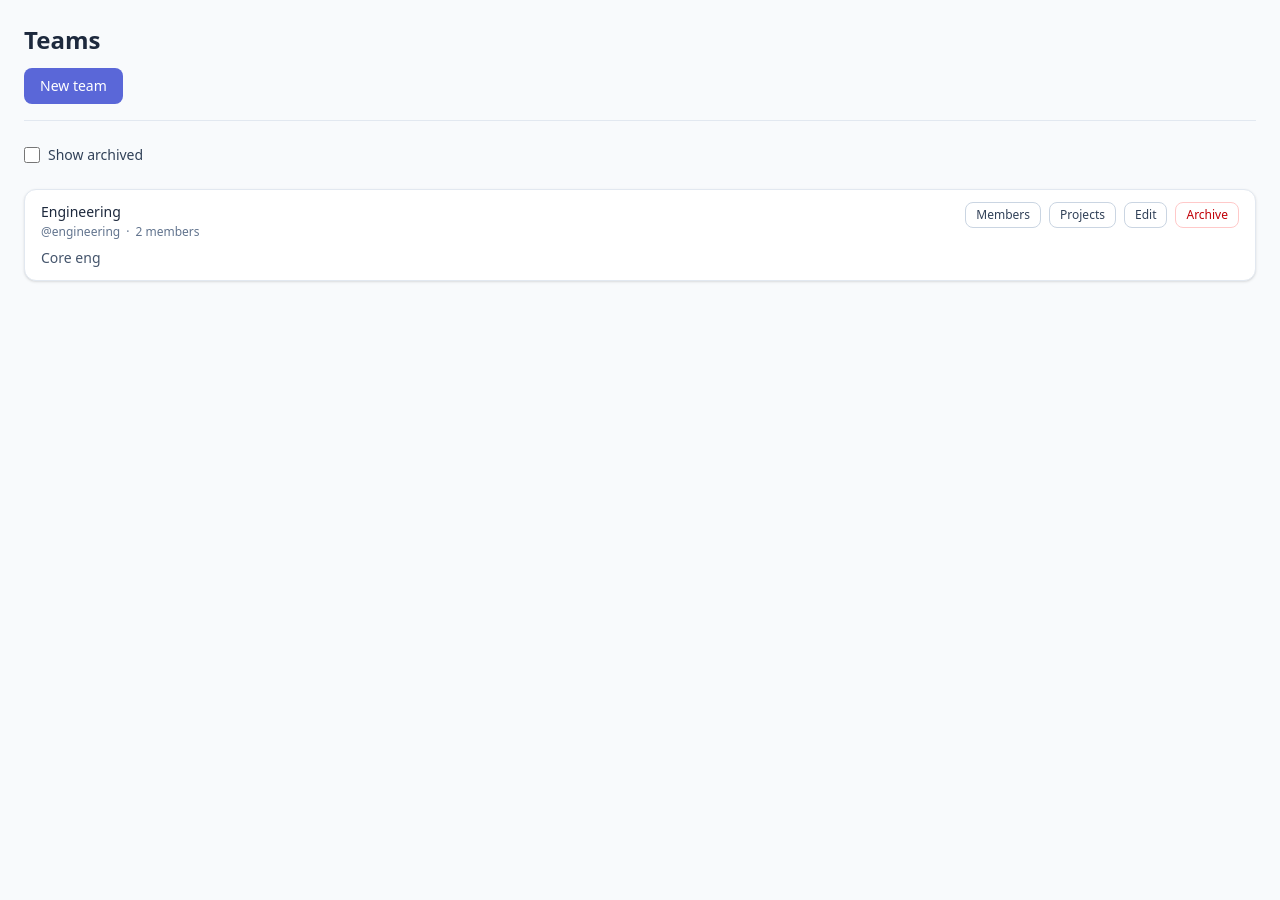
Test: TeamsPanel - create flow › shows warnings returned by the save
This screenshot has width=1280, height=900.
Expected: the text "Engineering" is shown, [41,202,121,222]
Step 1. Click the button "New team" → (73, 86), box [24,68,123,104]
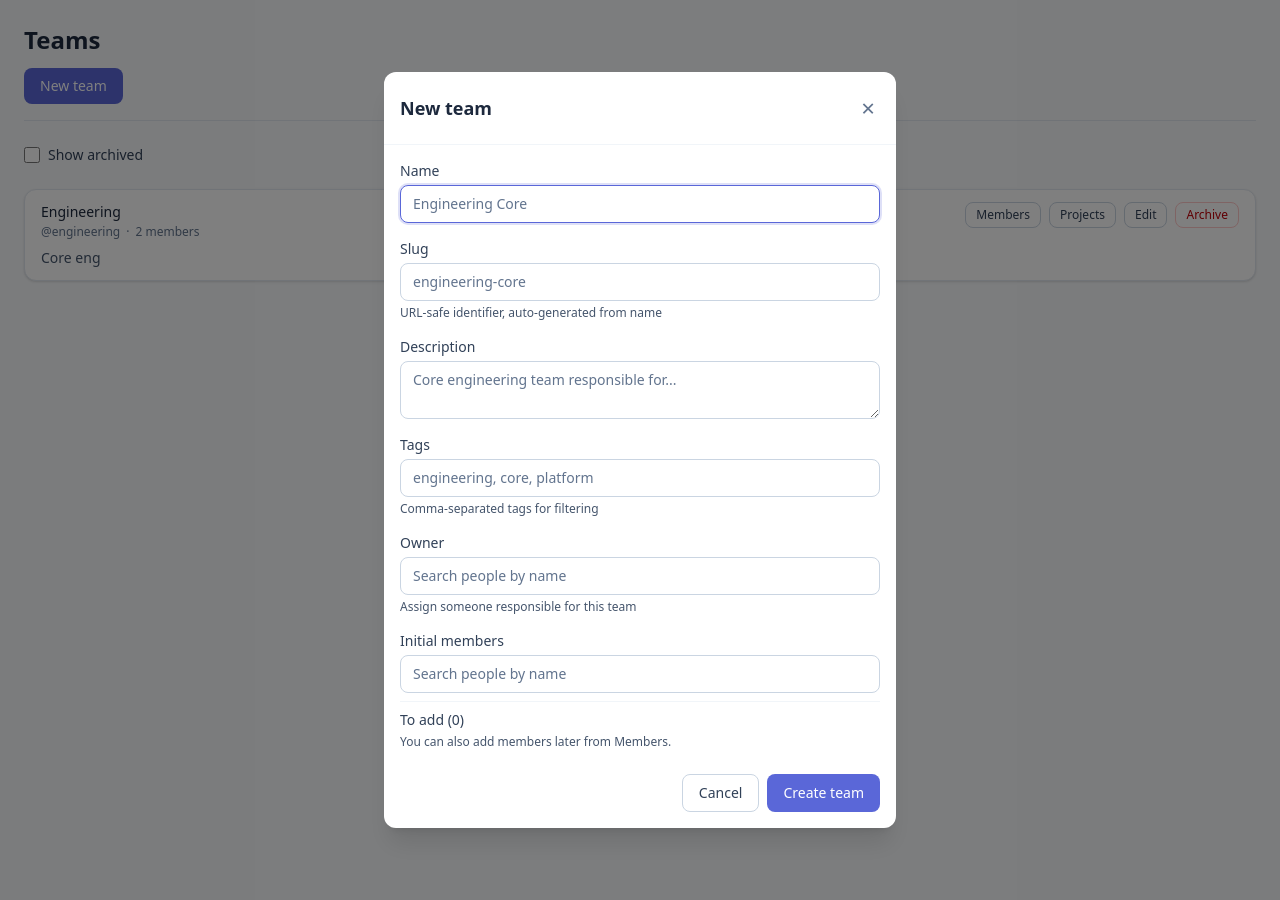
Step 2. Type "Team X" into the field with placeholder "Engineering Core" → (640, 204), box [400,185,880,223]
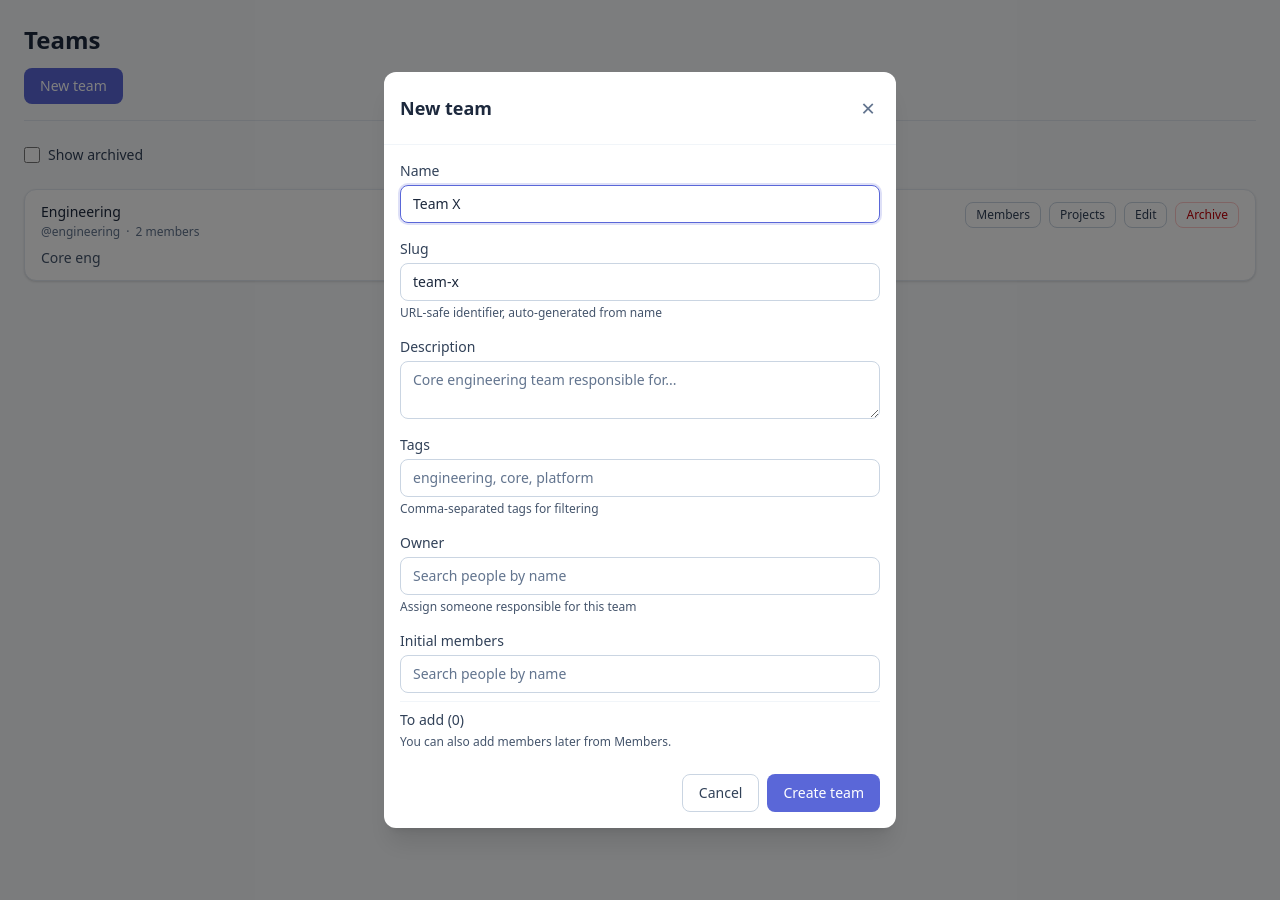
Step 3. Click the button "Create team" → (824, 793), box [767,774,880,812]
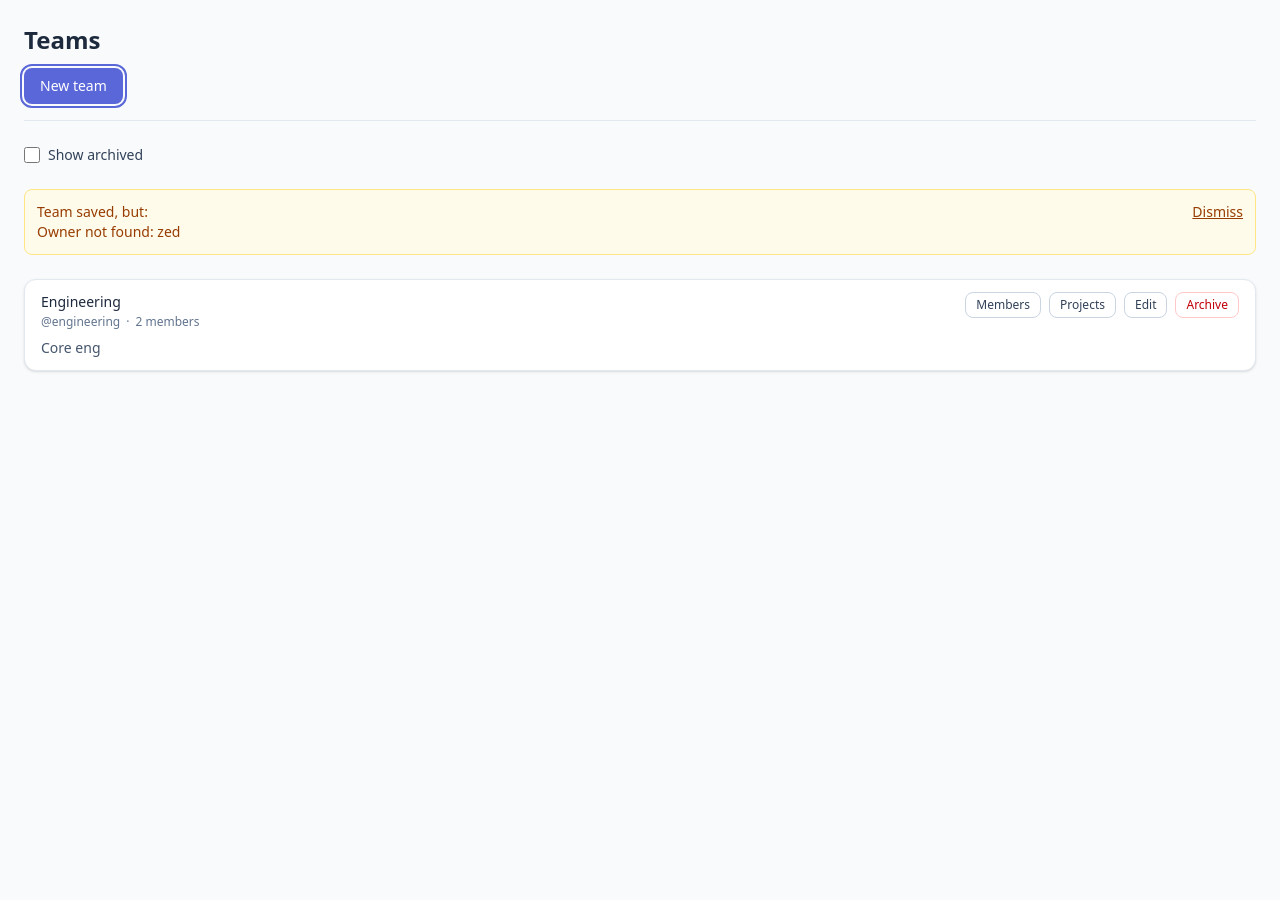
Expected: the text "Team saved, but: Owner not found: zed" is shown, [37,202,180,242]
